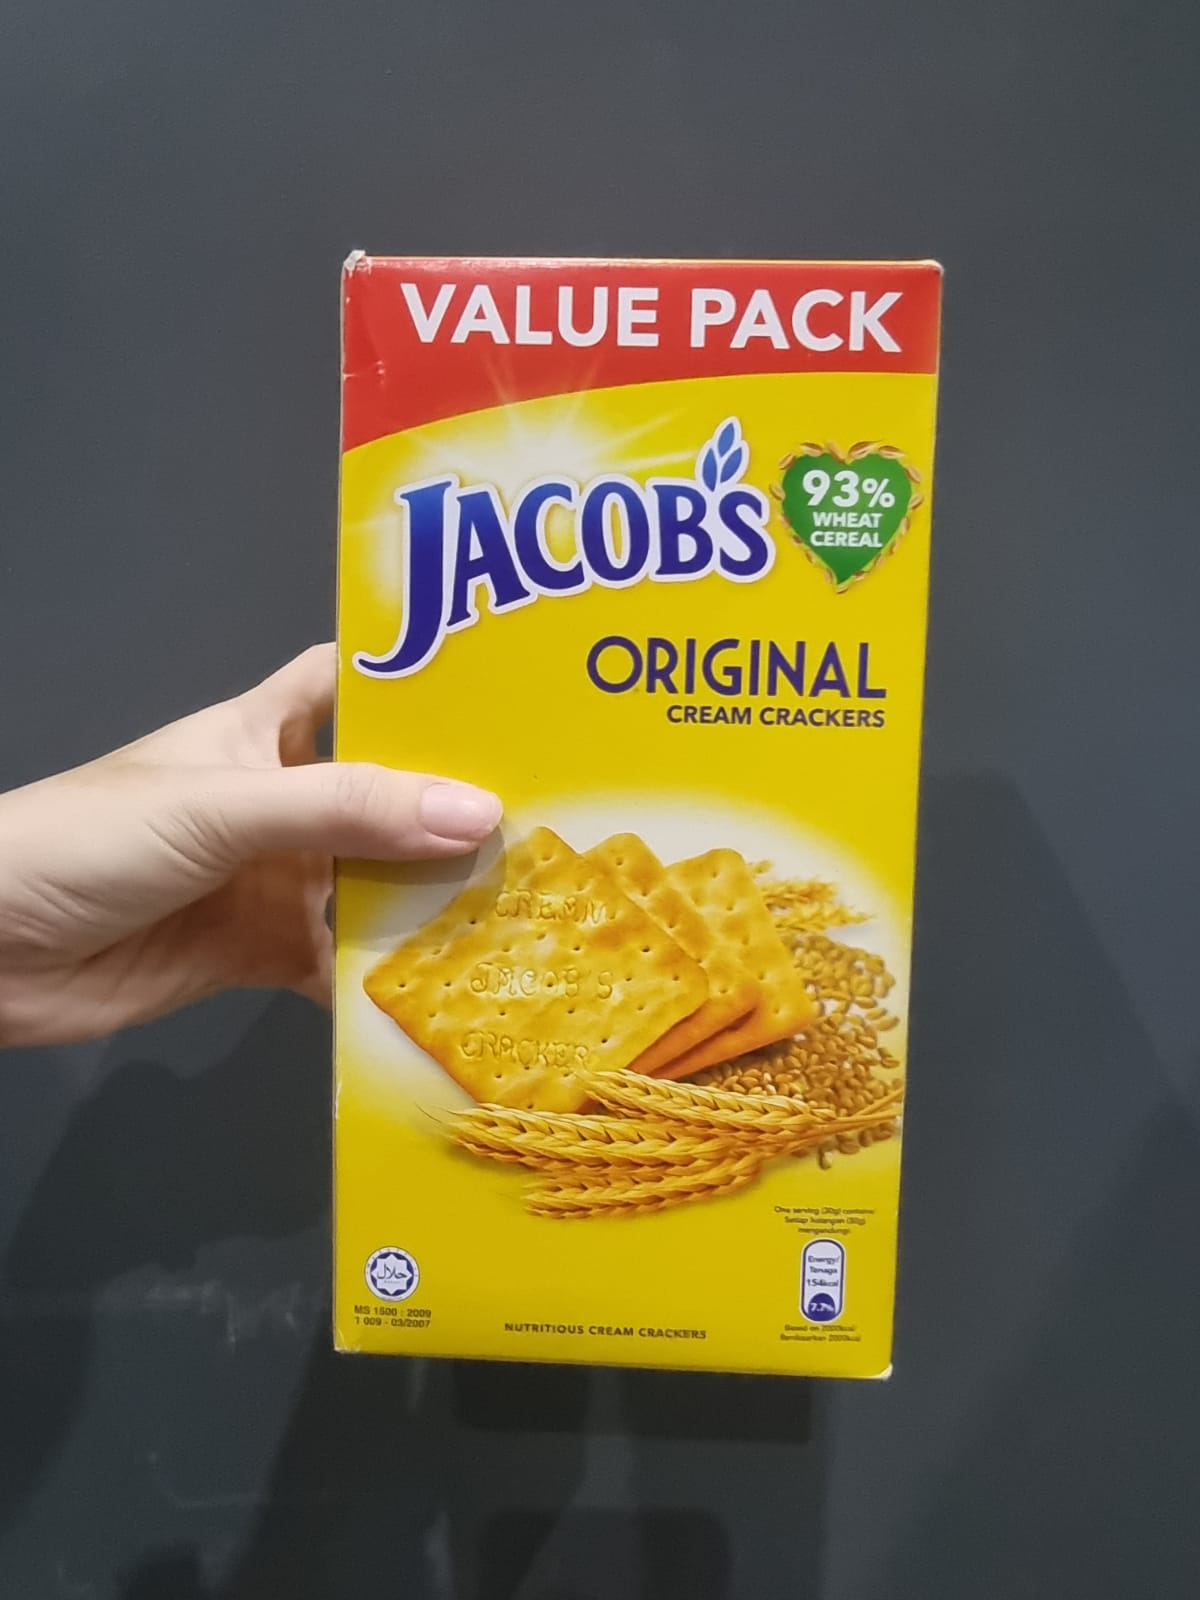Biscuits: (335, 262, 901, 1351)
